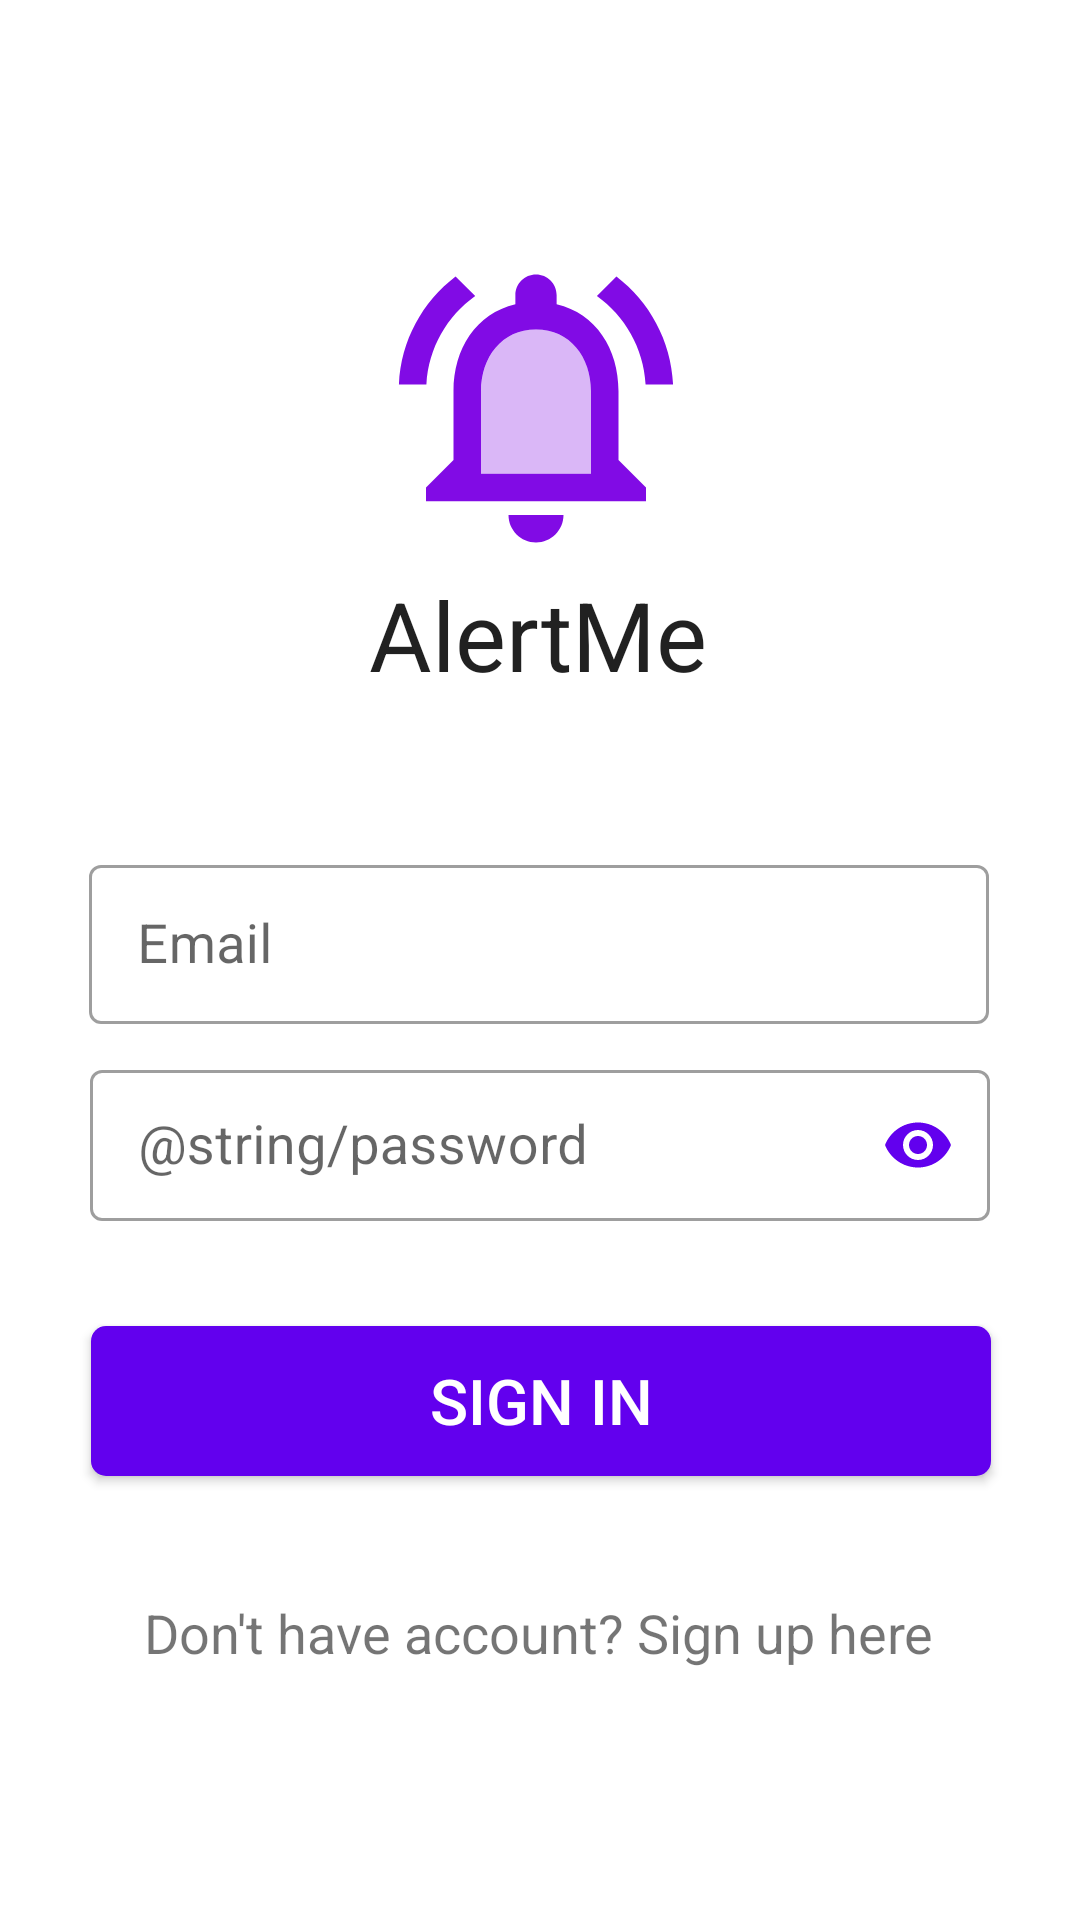

Icon bounding boxes for this 1080x1920 phone screenshot, format (x1, y1, x2, y2):
notifications: (399, 274, 673, 543)
